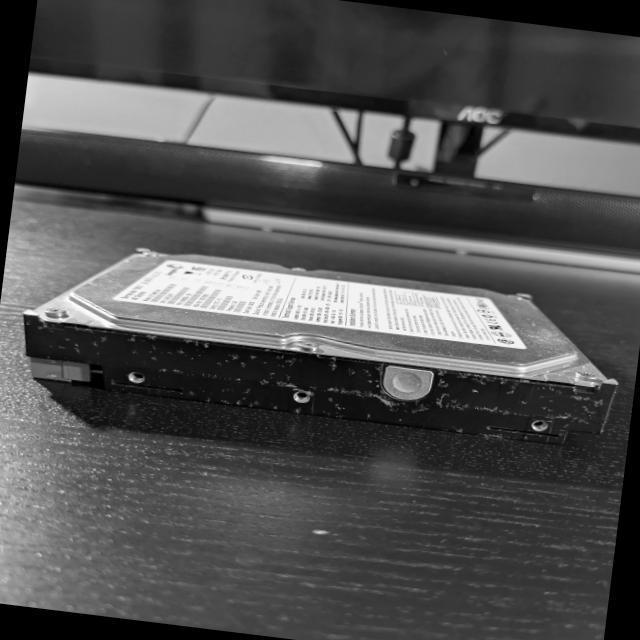DISK: (14, 234, 630, 452)
